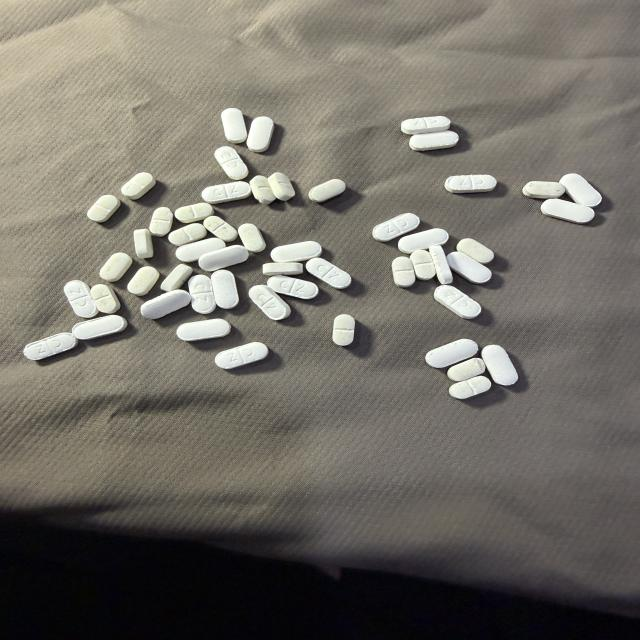pill: (434, 285, 481, 319), (426, 339, 478, 368), (481, 345, 518, 385), (141, 290, 191, 319), (249, 285, 290, 320), (215, 342, 268, 369), (24, 333, 77, 360), (306, 258, 351, 289), (559, 174, 601, 207), (447, 252, 491, 283), (72, 315, 127, 339), (373, 213, 420, 241), (199, 245, 248, 271), (541, 199, 594, 223), (64, 281, 98, 318), (398, 228, 448, 253), (177, 319, 231, 341), (176, 238, 225, 262), (268, 276, 318, 299), (202, 181, 252, 204), (210, 270, 239, 309), (214, 147, 248, 179), (271, 241, 322, 262), (189, 275, 216, 313), (410, 130, 458, 151), (449, 376, 491, 399), (457, 238, 494, 264), (445, 175, 496, 193), (247, 117, 273, 152), (221, 108, 247, 143), (128, 266, 159, 295), (100, 253, 132, 281), (87, 195, 120, 222), (401, 116, 450, 134), (429, 246, 452, 284), (447, 358, 485, 381), (90, 284, 120, 313), (122, 173, 155, 199), (204, 216, 237, 242), (309, 179, 346, 202), (169, 223, 206, 246), (161, 264, 192, 291), (249, 175, 276, 205), (238, 224, 266, 252), (523, 181, 565, 199), (268, 172, 294, 201), (410, 250, 435, 280), (175, 203, 212, 223), (149, 207, 173, 236), (392, 257, 415, 287), (333, 314, 354, 346), (134, 229, 153, 258), (263, 263, 303, 276)
